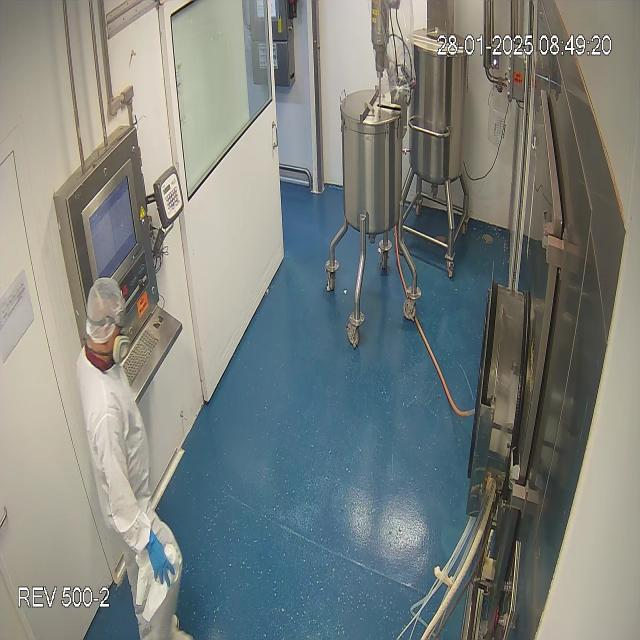pessoa: (76, 281, 188, 639)
touca: (84, 276, 127, 351)
